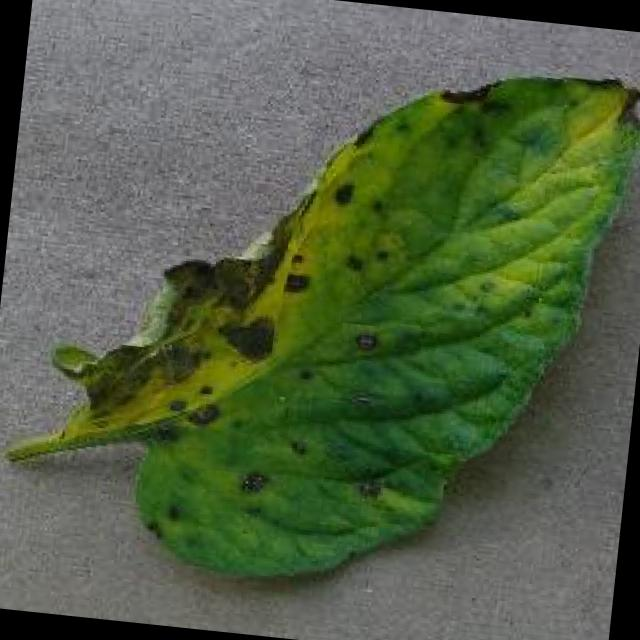Tomato_Early_Blight: (48, 92, 430, 478)
